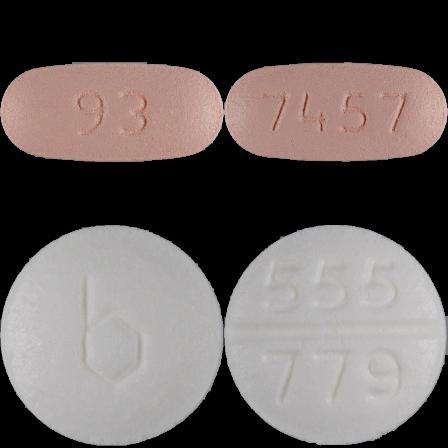21695-894: (0, 0, 224, 224)
